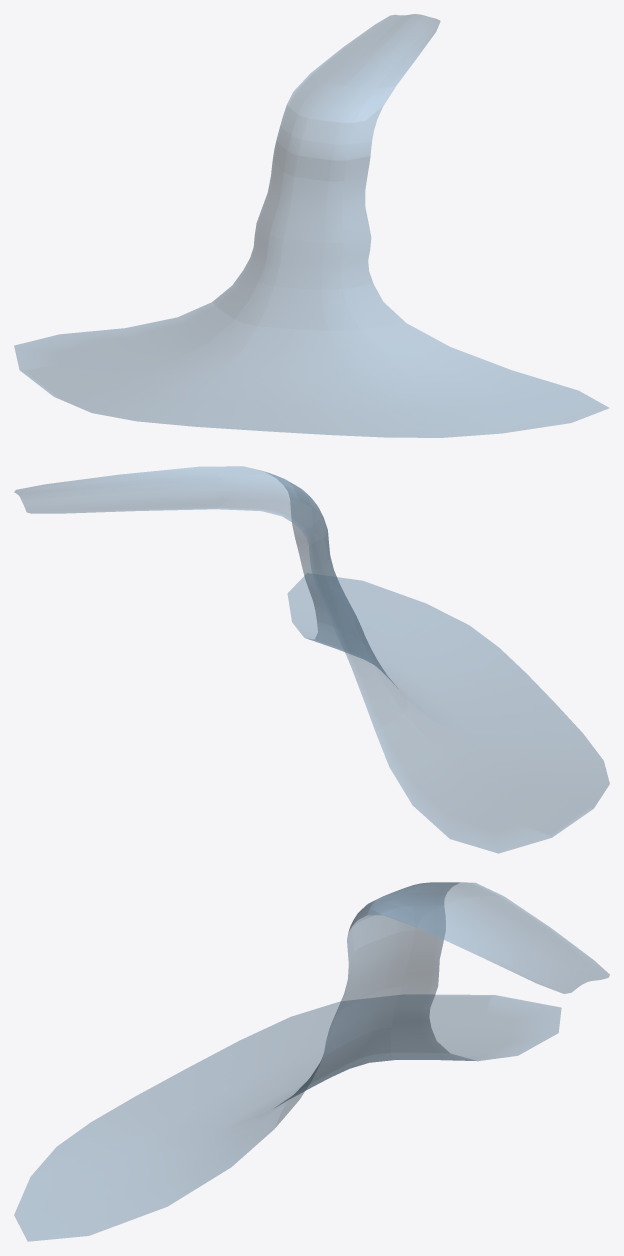
The model's file is LargeWaterfall.fbx.
3 renders of one model, top to bottom at view 1: azimuth 30°, elevation 25°; view 2: azimuth 150°, elevation 25°; view 3: azimuth 270°, elevation 25°, orthographic. The views are drawn at different scales.
Parts seen in each view (by area): view 1: large_waterfall; view 2: large_waterfall; view 3: large_waterfall.
Part boxes in pixels (x1,y1,x2,y2): large_waterfall: [14, 14, 609, 437]; large_waterfall: [14, 466, 609, 853]; large_waterfall: [14, 882, 609, 1241].
Size of the model in its own units: 53983 by 25655 by 49398.
